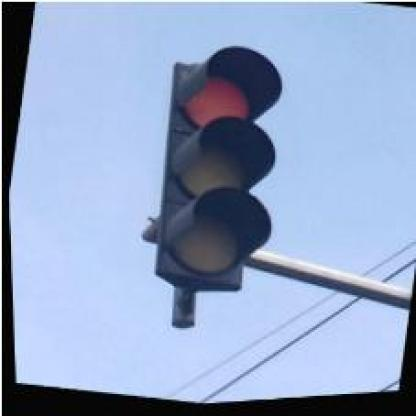red: (135, 38, 294, 303)
